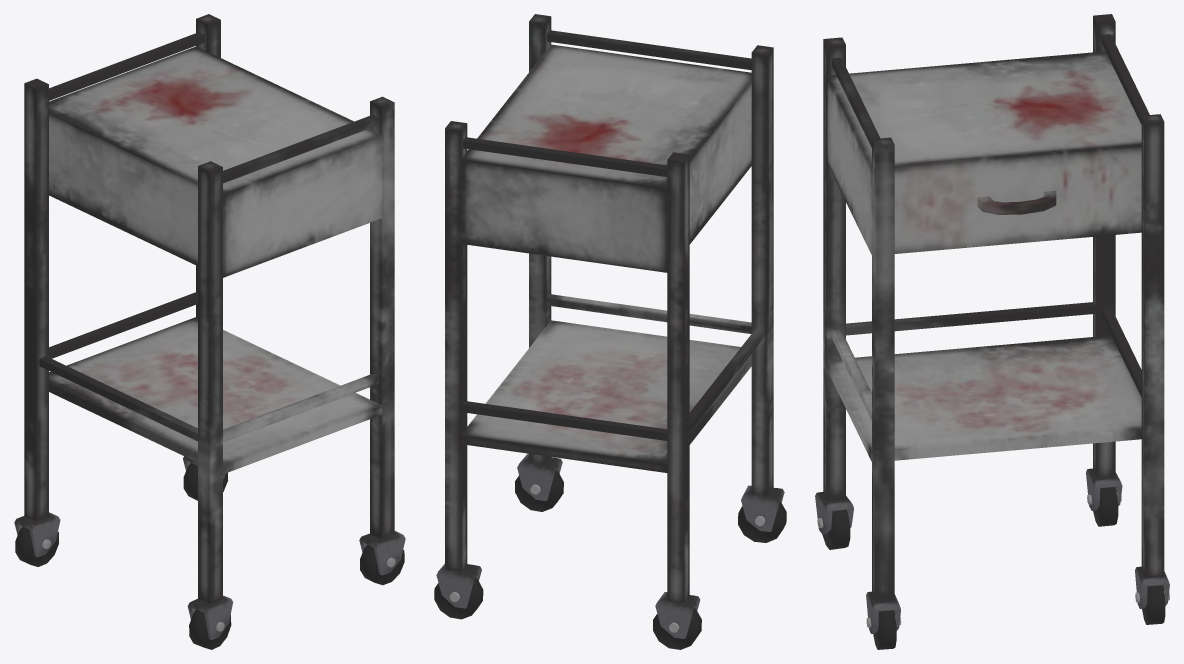
The model's file is surgical_trolley.glb.
3 views of the same model, side by side, from view 1: azimuth 30°, elevation 25°; view 2: azimuth 150°, elevation 25°; view 3: azimuth 270°, elevation 25° (orthographic). The views are drawn at different scales.
Parts seen in each view (by area): view 1: surgical_trolley; view 2: surgical_trolley; view 3: surgical_trolley.
Boxes of the visible parts, left/top/right/bottom form: surgical_trolley: left=14, top=14, right=405, bottom=649; surgical_trolley: left=434, top=14, right=786, bottom=649; surgical_trolley: left=815, top=14, right=1169, bottom=649.
Bounding box in the file's own units: 0.546 × 0.8891 × 0.5668.
Materials: 1 (1 with a texture image).
